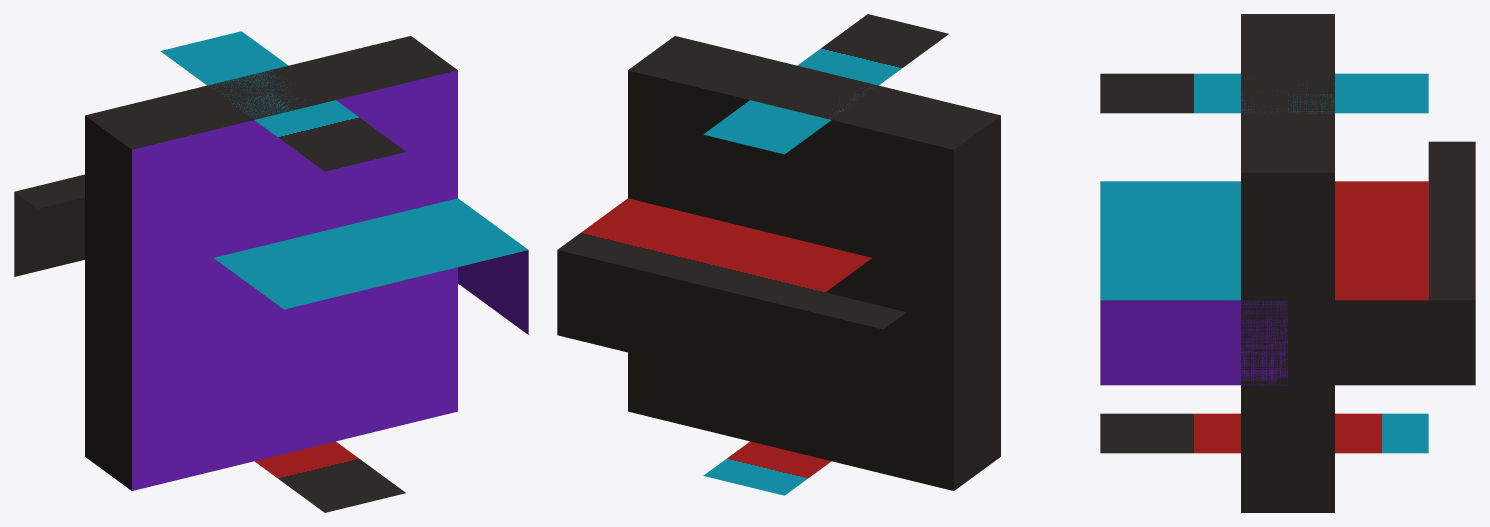
File: Save.obj
3 views of the same model, side by side, from view 1: azimuth 30°, elevation 25°; view 2: azimuth 150°, elevation 25°; view 3: azimuth 270°, elevation 25° (orthographic).
Parts seen in each view (by area): view 1: body; view 2: body; view 3: body.
Boxes of the visible parts, box(x1,y1,x2,y2) form: body: box(14, 31, 528, 512); body: box(557, 14, 1000, 495); body: box(1100, 14, 1475, 512).
Size of the model in its own units: 0.5 by 0.5 by 0.5.
